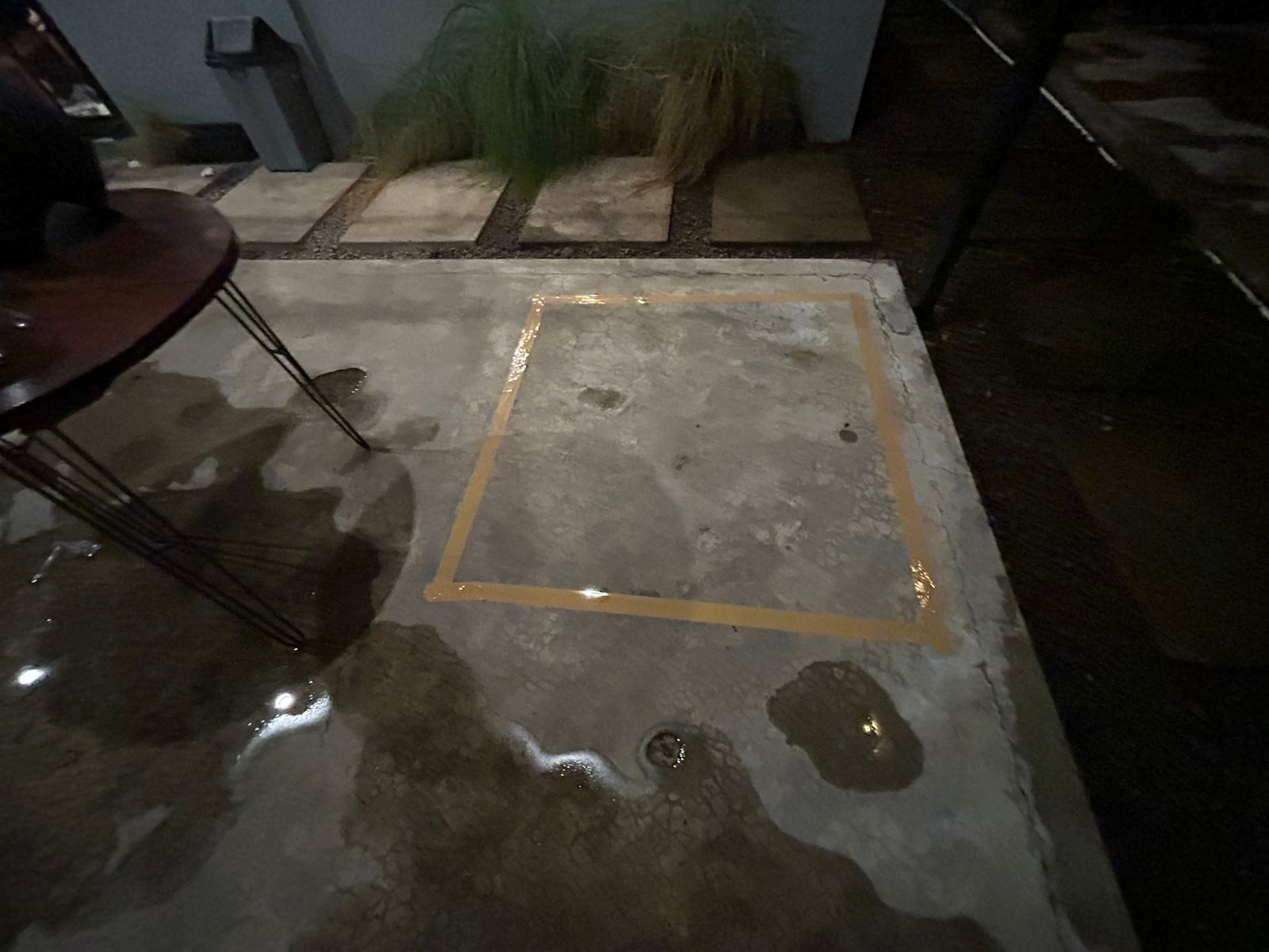floor marking: (424, 293, 950, 652)
